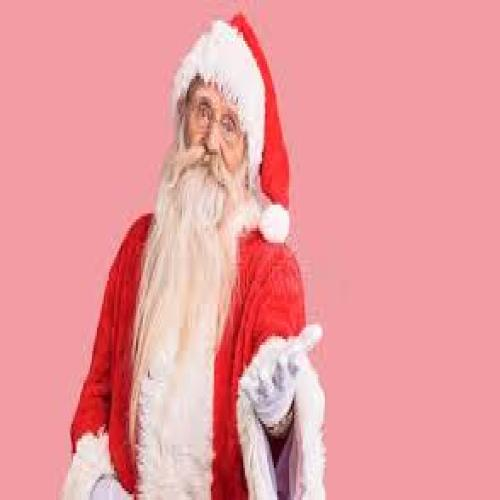Santa: (61, 12, 327, 500)
